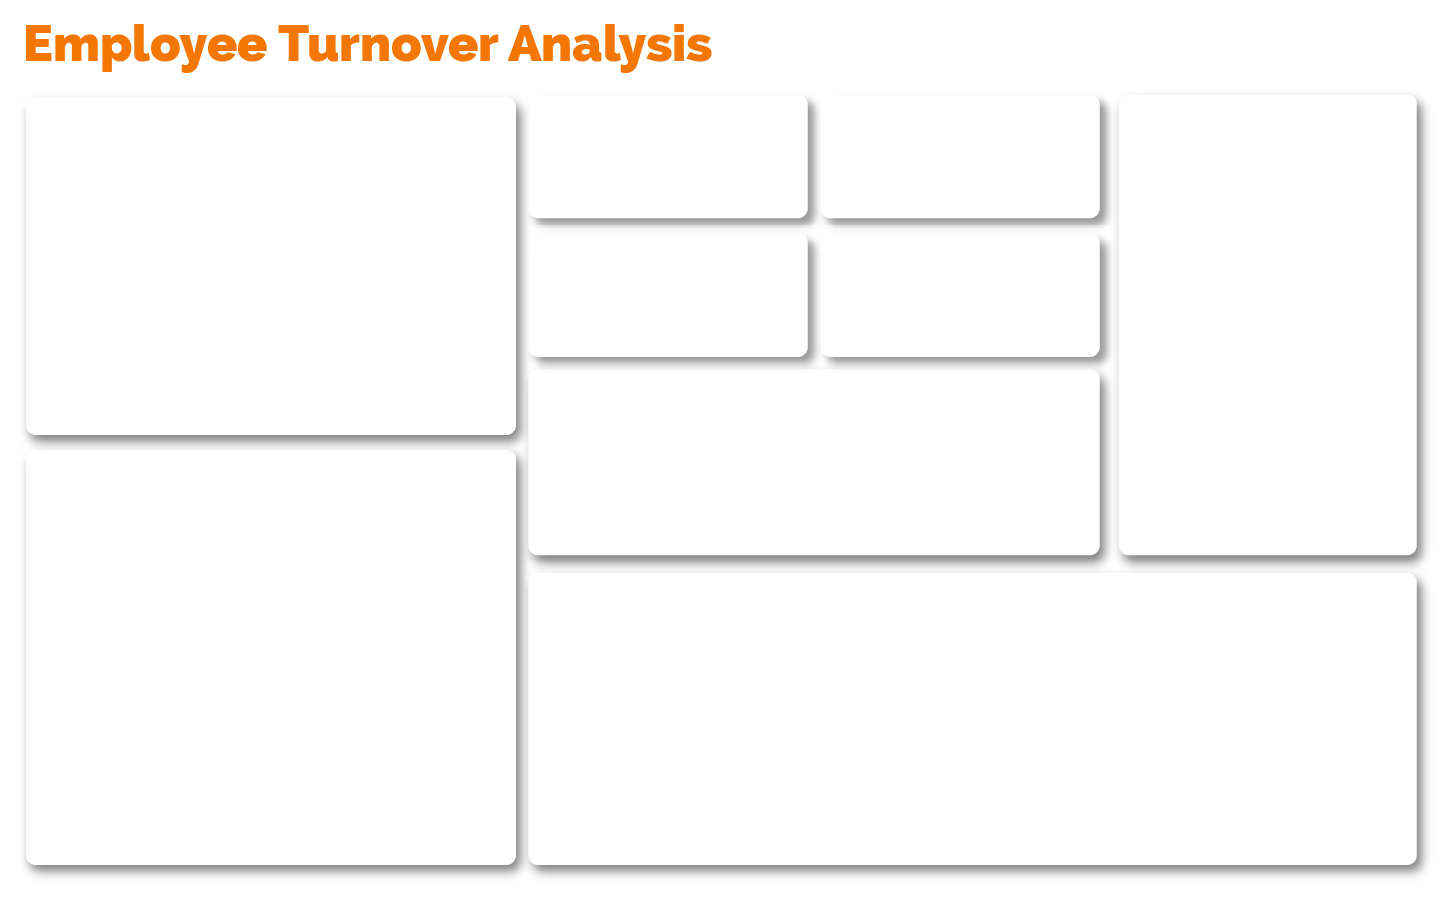

This screenshot's page, from the dashboard's own definition file:
{"tool":"powerbi","page":{"name":" Analysis ","canvas":[1440,900],"ordinal":2},"visuals":[{"type":"card","fields":{"Values":["public employee_attrition_dataset.total_employee"]},"box":[542.9,108.2,249.5,86.2],"z":0},{"type":"card","fields":{"Values":["public employee_attrition_dataset.total_attrition"]},"box":[841.5,103.9,238.5,95.4],"z":1000},{"type":"card","fields":{"Values":["public employee_attrition_dataset.attrition_rate"]},"box":[543.4,243.6,248.7,95.4],"z":2000},{"type":"card","fields":{"Values":["public employee_attrition_dataset.avg_tenure"]},"box":[841.5,243.6,238.5,95.4],"z":3000},{"type":"textbox","box":[542.9,95.4,249.5,56.9],"z":4000},{"type":"textbox","box":[841.9,95.4,238.5,56.9],"z":5000},{"type":"textbox","box":[542.9,234.8,249.5,56.9],"z":6000},{"type":"textbox","box":[841.9,234.8,238.5,56.9],"z":7000},{"type":"advancedSlicerVisual","fields":{"Values":["public employee_attrition_dataset.Gender"]},"box":[1136.9,13,278.2,57.5],"z":8000},{"type":"pageNavigator","box":[791.9,16.7,337.5,51.9],"z":9000},{"type":"tableEx","fields":{"Values":["public employee_attrition_dataset.Education Level","public employee_attrition_dataset.Job Role","public employee_attrition_dataset.total_employee","Avg(public employee_attrition_dataset.Performance Rating)","public employee_attrition_dataset.total_attrition","public employee_attrition_dataset.attrition_rate"]},"box":[542.9,585.1,856.6,258.6],"z":10000},{"type":"clusteredColumnChart","fields":{"Category":["public employee_attrition_dataset.Attrition"],"Y":["public employee_attrition_dataset.total_employee"]},"box":[542.9,383.4,537.4,157.7],"z":11000},{"type":"donutChart","fields":{"Y":["public employee_attrition_dataset.total_attrition"],"Category":["public employee_attrition_dataset.Work-Life Balance Label"]},"box":[1129.9,113.7,269.6,201.8],"z":12000},{"type":"donutChart","fields":{"Y":["public employee_attrition_dataset.attrition_rate"],"Category":["public employee_attrition_dataset.Job Satisfaction Label"]},"box":[1129.9,348.5,269.6,192.6],"z":13000},{"type":"textbox","box":[1129.9,313.7,284.3,40.4],"z":14000},{"type":"textbox","box":[542.9,363.2,497.1,40.4],"z":15000},{"type":"textbox","box":[1129.9,93.5,271.5,34.9],"z":16000},{"type":"textbox","box":[42.2,93.5,427.4,38.5],"z":17000},{"type":"clusteredBarChart","fields":{"Category":["public employee_attrition_dataset.Leadership Label"],"Y":["public employee_attrition_dataset.total_attrition"]},"box":[42.2,104.6,445.7,231.1],"z":18000},{"type":"clusteredBarChart","fields":{"Y":["public employee_attrition_dataset.total_attrition"],"Category":["public employee_attrition_dataset.Performance Rating Label"]},"box":[42.2,612.6,445.7,231.1],"z":19000},{"type":"clusteredBarChart","fields":{"Category":["public employee_attrition_dataset.Recognition Label"],"Y":["public employee_attrition_dataset.total_attrition"]},"box":[42.2,363.2,445.7,231.1],"z":20000},{"type":"textbox","box":[42.2,594.3,427.4,38.5],"z":21000},{"type":"textbox","box":[42.2,344.8,427.4,38.5],"z":22000}]}

Visuals, with their boxes in screenshot pixels (x1, y1, x2, y2), scaled from the page's 1440x900 canvas onto the 1440x900 screenshot:
card - public employee_attrition_dataset.total_employee: 543:108:792:194
card - public employee_attrition_dataset.total_attrition: 842:104:1080:199
card - public employee_attrition_dataset.attrition_rate: 543:244:792:339
card - public employee_attrition_dataset.avg_tenure: 842:244:1080:339
textbox: 543:95:792:152
textbox: 842:95:1080:152
textbox: 543:235:792:292
textbox: 842:235:1080:292
advancedSlicerVisual - public employee_attrition_dataset.Gender: 1137:13:1415:70
pageNavigator: 792:17:1129:69
tableEx - public employee_attrition_dataset.Education Level x public employee_attrition_dataset.Job Role: 543:585:1400:844
clusteredColumnChart - public employee_attrition_dataset.Attrition x public employee_attrition_dataset.total_employee: 543:383:1080:541
donutChart - public employee_attrition_dataset.total_attrition x public employee_attrition_dataset.Work-Life Balance Label: 1130:114:1400:316
donutChart - public employee_attrition_dataset.attrition_rate x public employee_attrition_dataset.Job Satisfaction Label: 1130:348:1400:541
textbox: 1130:314:1414:354
textbox: 543:363:1040:404
textbox: 1130:94:1401:128
textbox: 42:94:470:132
clusteredBarChart - public employee_attrition_dataset.Leadership Label x public employee_attrition_dataset.total_attrition: 42:105:488:336
clusteredBarChart - public employee_attrition_dataset.total_attrition x public employee_attrition_dataset.Performance Rating Label: 42:613:488:844
clusteredBarChart - public employee_attrition_dataset.Recognition Label x public employee_attrition_dataset.total_attrition: 42:363:488:594
textbox: 42:594:470:633
textbox: 42:345:470:383
